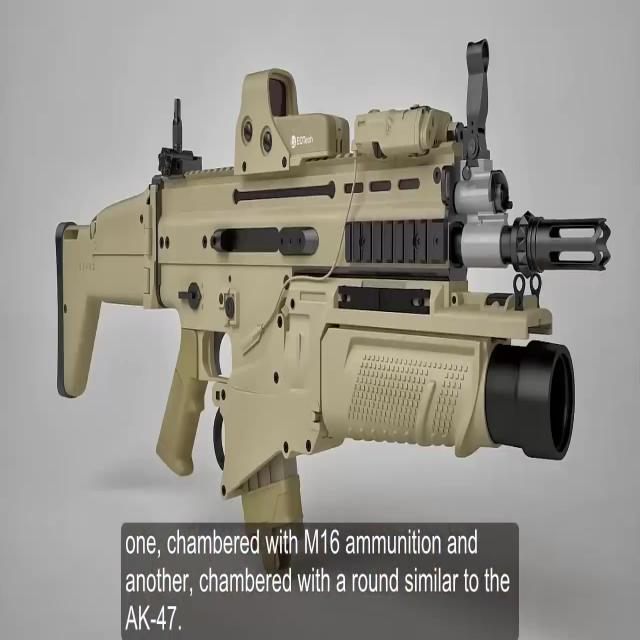Weapon: (18, 26, 624, 572)
